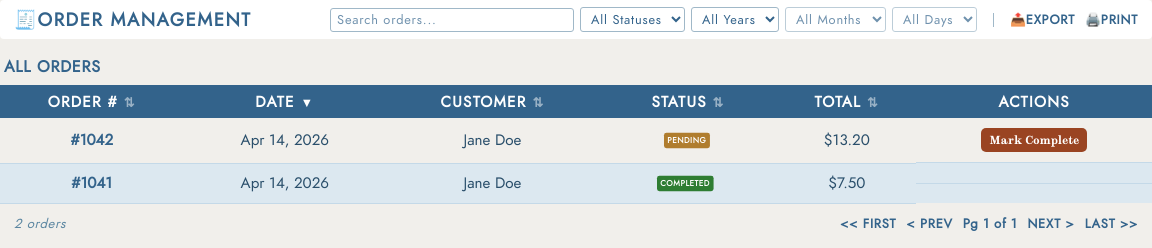
it: UX5.9 Admin Orders Page › shows Mark Complete only for pending orders and updates row optimistically on success
The width and height of the screenshot is (1152, 248).
Check: the text "#1042" is shown, box [70,129,113,150]
Click the button "Mark Complete".
click(1034, 140)  # box [981,128,1087,152]
Wait 3000 ms
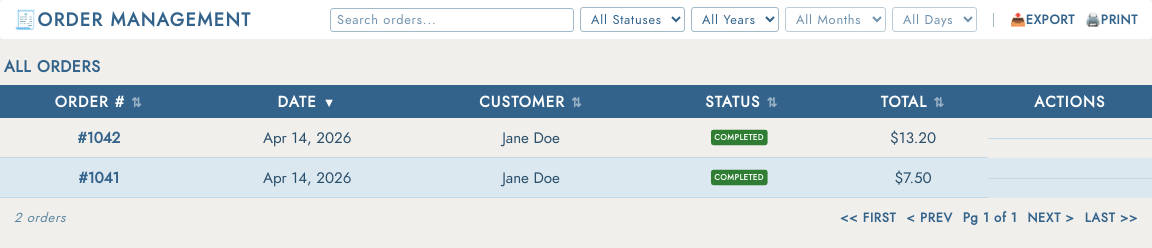
Check: the button "Mark Complete" is gone
